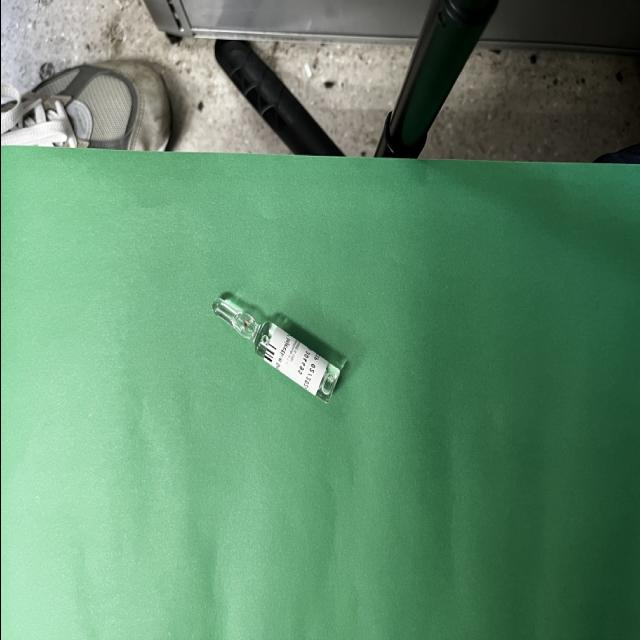Ampoules: (212, 298, 338, 402)
